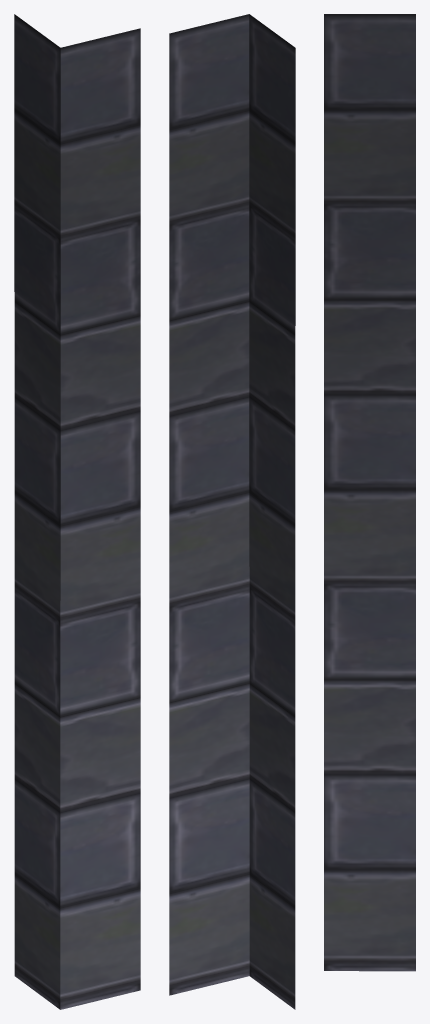
Rendered from dungeon_wall_corner1.FBX.
3 views of the same model, side by side, from view 1: azimuth 30°, elevation 25°; view 2: azimuth 210°, elevation 25°; view 3: azimuth 270°, elevation 25° (orthographic).
Visible parts, largest first — view 1: wall_corners; view 2: wall_corners; view 3: wall_corners.
Part boxes in pixels (x1=…): wall_corners: x1=14, y1=14, x2=140, y2=1009; wall_corners: x1=169, y1=14, x2=295, y2=1009; wall_corners: x1=324, y1=14, x2=415, y2=971.
Bounding box in the file's own units: 50.11 × 575 × 50.
Materials: 1 (1 with a texture image).
